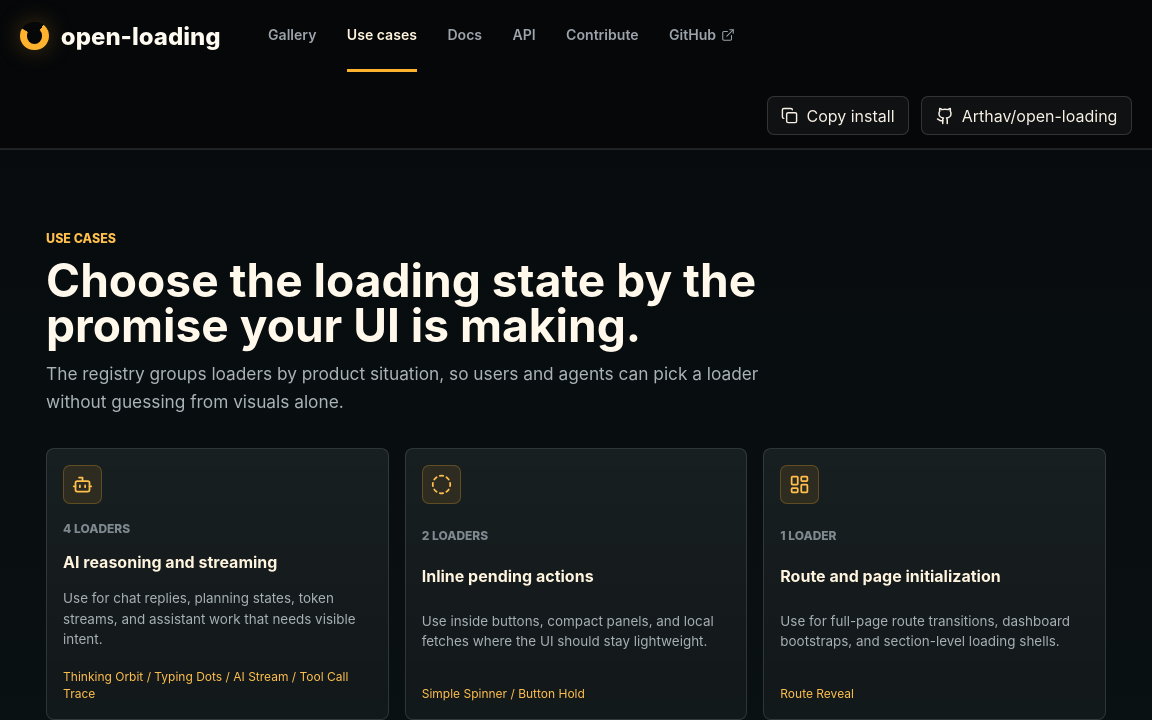
Scenario: gallery app › selects a matching loader from a use-case card
The width and height of the screenshot is (1152, 720).
Click the button "Inline pending actions" at (576, 584), box [405,448,747,719]
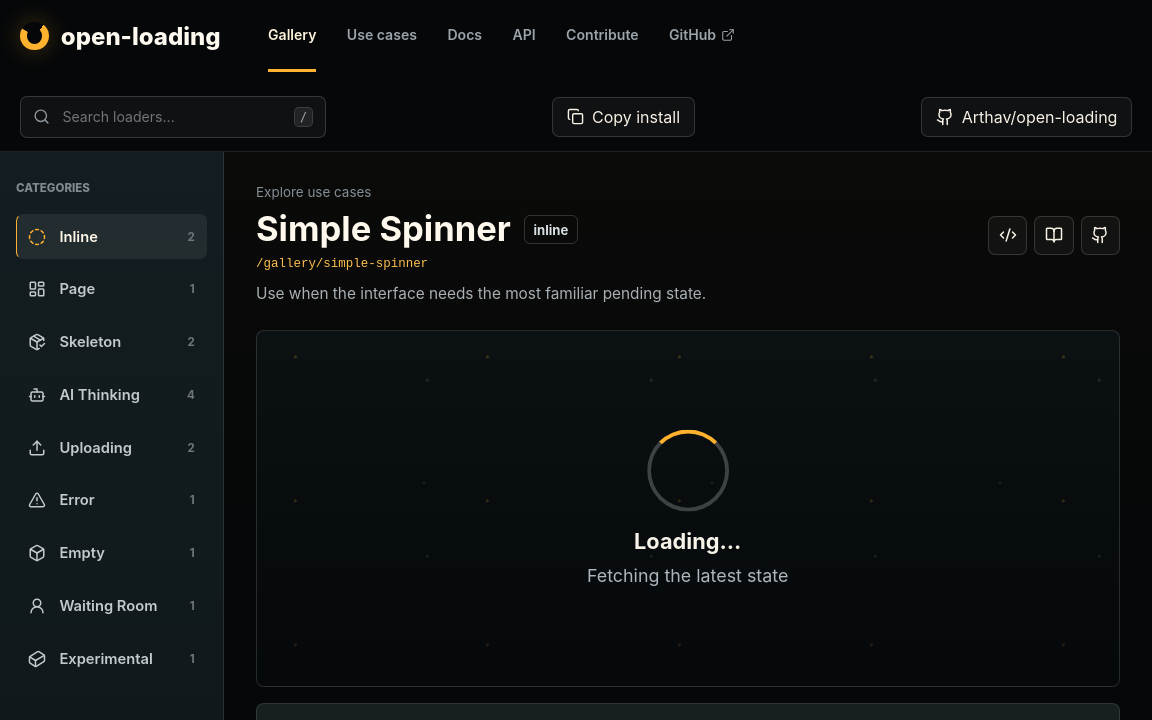
Result: the heading "Simple Spinner" is shown at [256,212,511,247]
Result: the message named "Simple spinner loading state" shows "Loading..." at [634,528,742,554]
Result: the link "/gallery/simple-spinner" is shown at [256,257,428,271]
